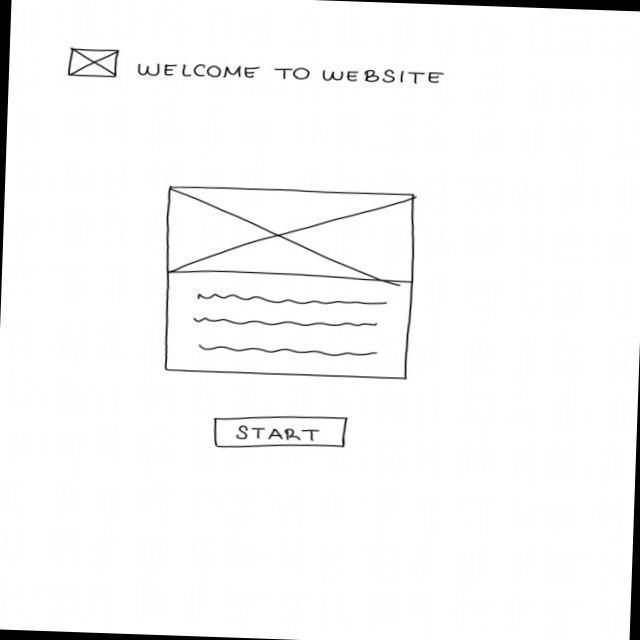button: (213, 411, 350, 454)
container: (163, 268, 416, 383)
image: (164, 184, 421, 286), (69, 47, 122, 81)
label: (134, 60, 446, 88)
textbox: (192, 291, 391, 361)
